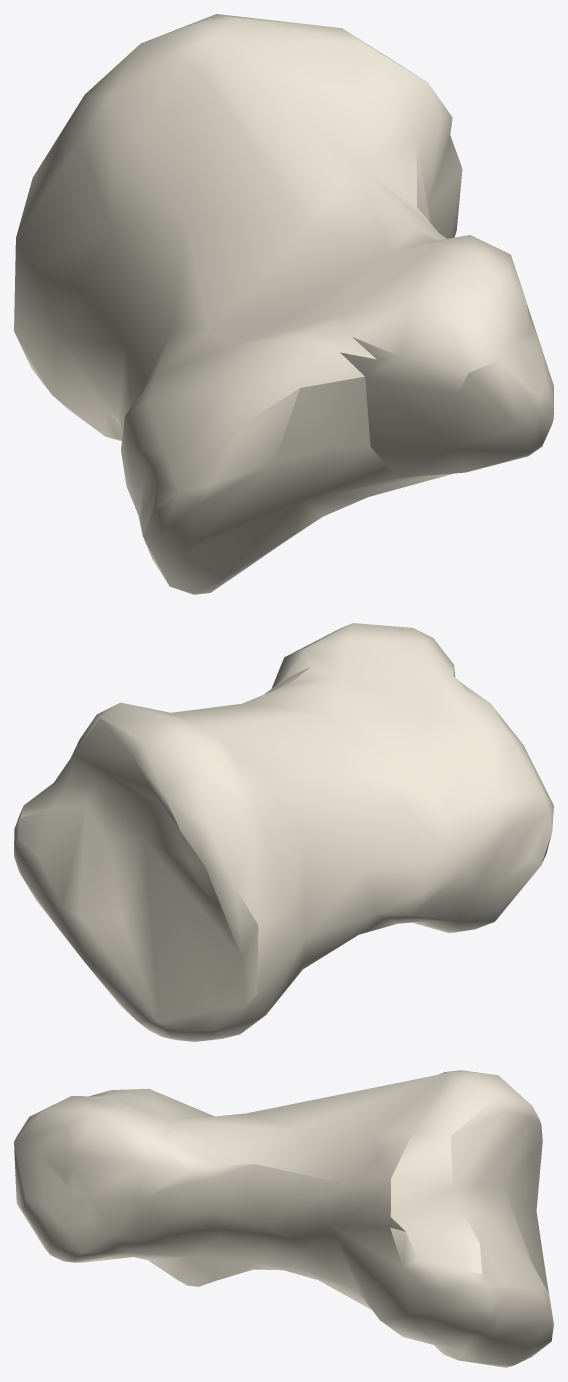
Rendered from fma32646.glb.
3 views of the same model, one above another, from view 1: azimuth 30°, elevation 25°; view 2: azimuth 150°, elevation 25°; view 3: azimuth 270°, elevation 25° (orthographic). The views are drawn at different scales.
Visible parts, largest first — view 1: FMA32646; view 2: FMA32646; view 3: FMA32646.
Boxes of the visible parts, x1=… form: FMA32646: x1=14, y1=14, x2=553, y2=594; FMA32646: x1=14, y1=623, x2=553, y2=1041; FMA32646: x1=14, y1=1070, x2=553, y2=1367.
Size of the model in its own units: 0.0108 by 0.00807 by 0.0136.
